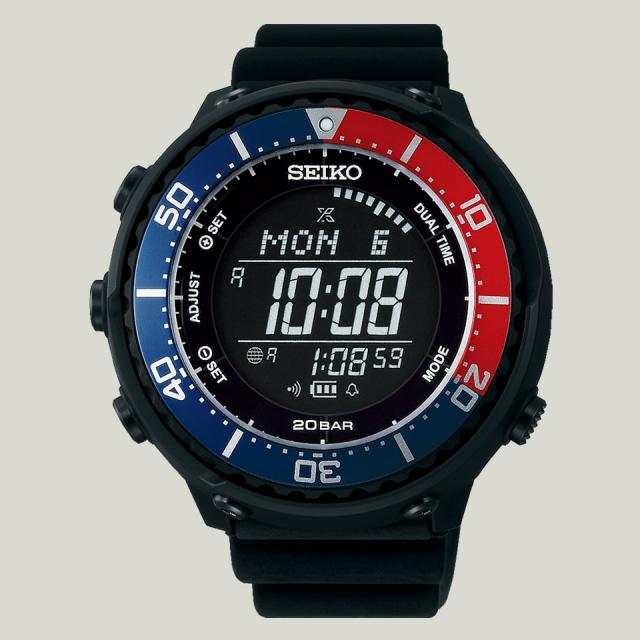watch: (127, 95, 548, 511)
